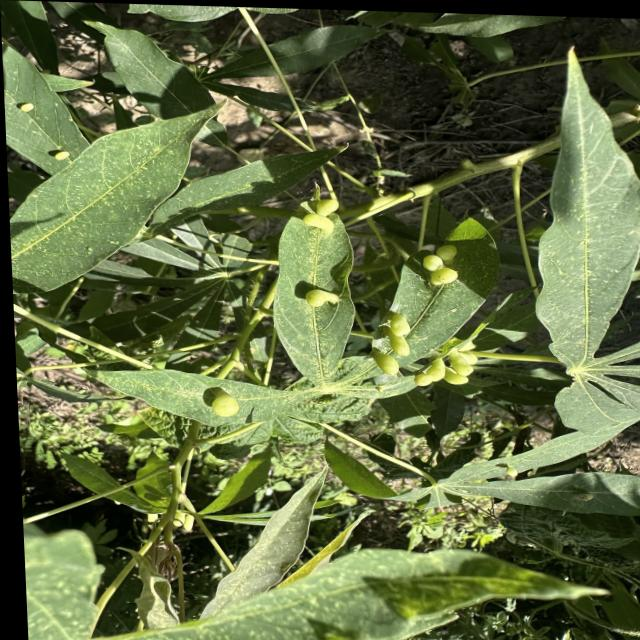Mosca: (409, 324, 476, 411), (413, 223, 468, 290), (371, 298, 414, 380), (300, 185, 345, 242), (196, 381, 248, 427), (297, 287, 345, 319), (17, 89, 43, 120), (50, 144, 73, 172)
